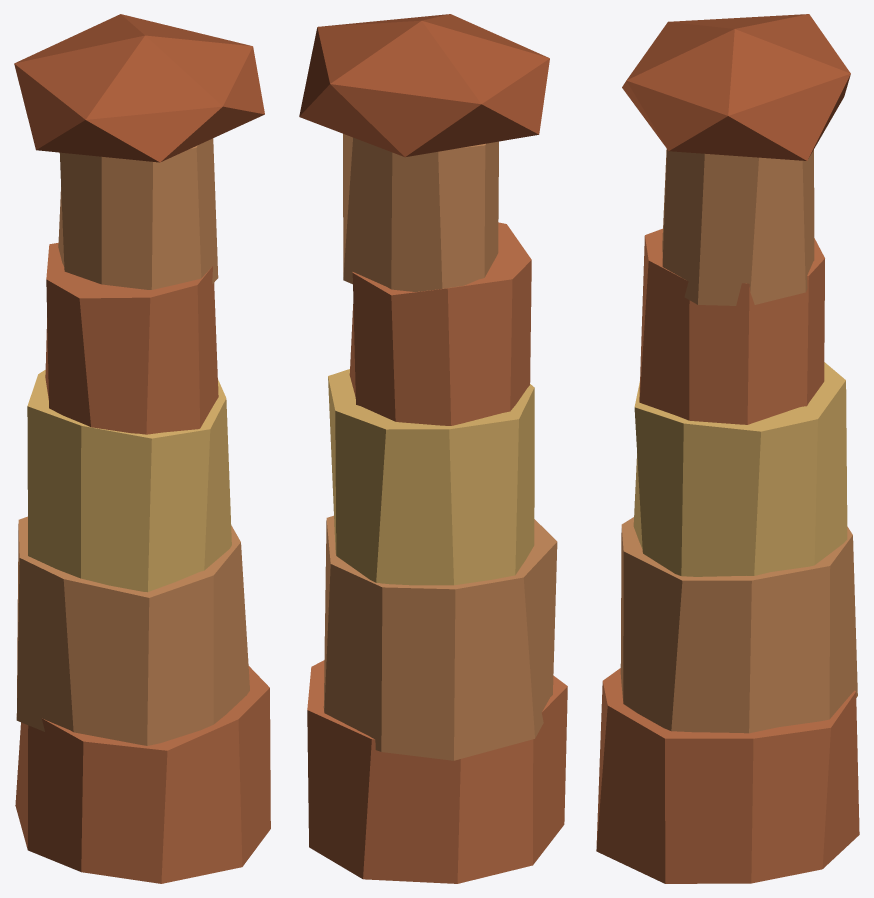
File: hd_rockspire.gltf
3 renders of one model, left to right at view 1: azimuth 30°, elevation 25°; view 2: azimuth 150°, elevation 25°; view 3: azimuth 270°, elevation 25°, orthographic. The views are drawn at different scales.
Parts seen in each view (by area): view 1: seg1, seg0, seg2, cap, seg3, seg4; view 2: seg1, seg0, seg2, cap, seg3, seg4; view 3: seg0, seg1, seg2, cap, seg3, seg4.
Part boxes in pixels (x1=…): seg1: x1=16, y1=516, x2=249, y2=745; seg0: x1=15, y1=666, x2=270, y2=883; seg2: x1=27, y1=370, x2=231, y2=592; cap: x1=14, y1=14, x2=264, y2=162; seg3: x1=45, y1=242, x2=218, y2=434; seg4: x1=58, y1=138, x2=218, y2=289; seg1: x1=323, y1=515, x2=557, y2=760; seg0: x1=307, y1=660, x2=567, y2=883; seg2: x1=328, y1=369, x2=534, y2=585; cap: x1=299, y1=14, x2=549, y2=157; seg3: x1=349, y1=222, x2=531, y2=425; seg4: x1=343, y1=134, x2=498, y2=291; seg0: x1=596, y1=668, x2=859, y2=883; seg1: x1=620, y1=517, x2=857, y2=733; seg2: x1=633, y1=362, x2=847, y2=576; cap: x1=622, y1=14, x2=850, y2=160; seg3: x1=639, y1=228, x2=824, y2=424; seg4: x1=662, y1=149, x2=814, y2=305.
Size of the model in its own units: 1.52 by 5.12 by 1.51.
